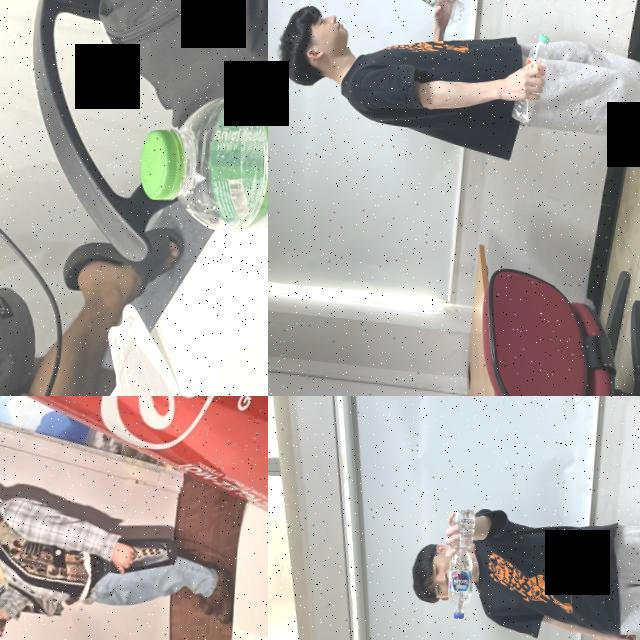bottle: (136, 74, 268, 245), (446, 504, 481, 620), (510, 30, 550, 126), (407, 0, 467, 21)
can: (0, 396, 268, 524)
